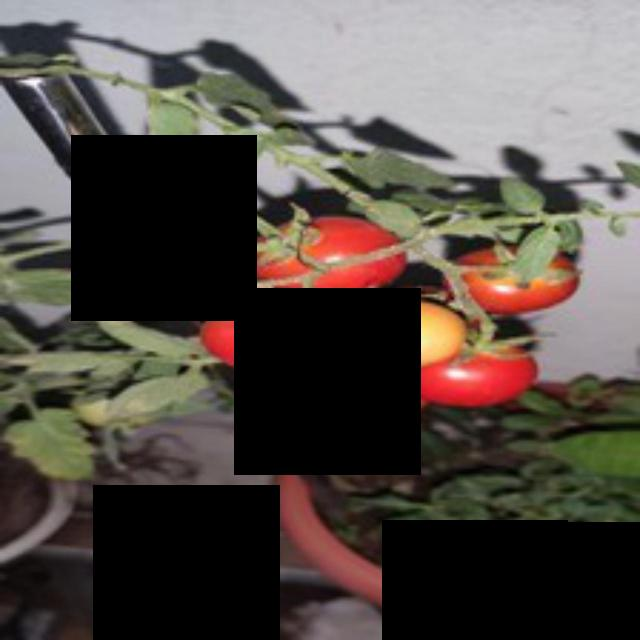tomato: (194, 295, 348, 378)
